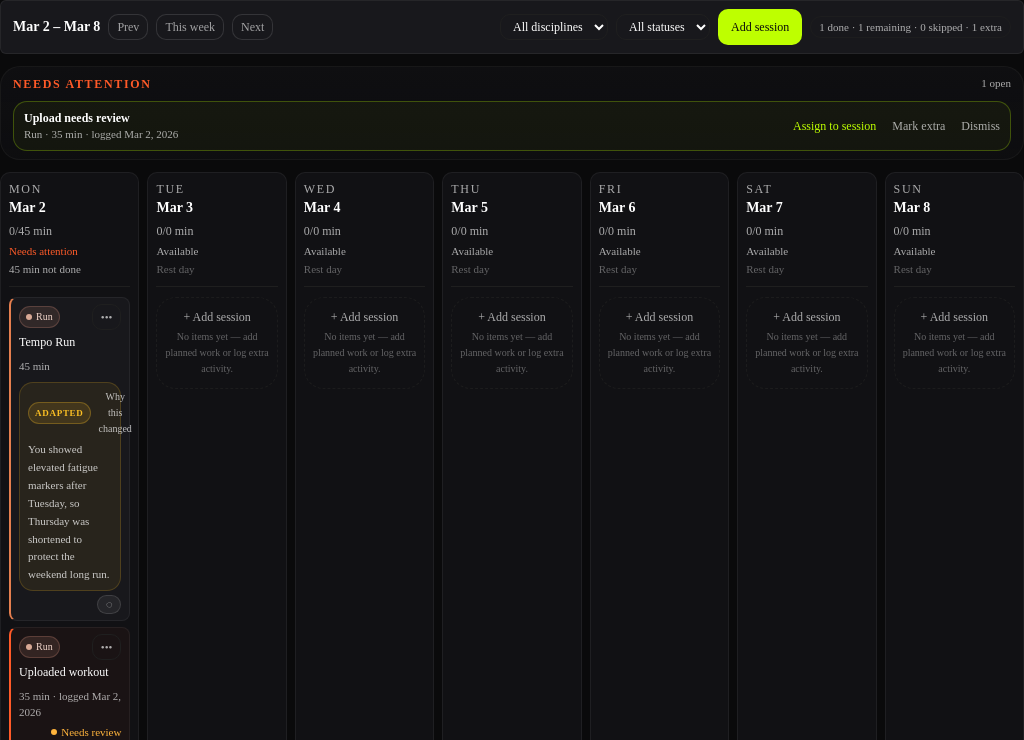
Test: WeekCalendar › renders adaptation rationale inline on affected planned session cards
This screenshot has width=1024, height=740.
Expected: the text "Adapted" is shown, [28, 402, 90, 424]
Expected: the text "elevated fatigue markers" is shown, [28, 443, 110, 580]
Click the button "Why this changed".
click(115, 413)  # box [98, 389, 132, 437]
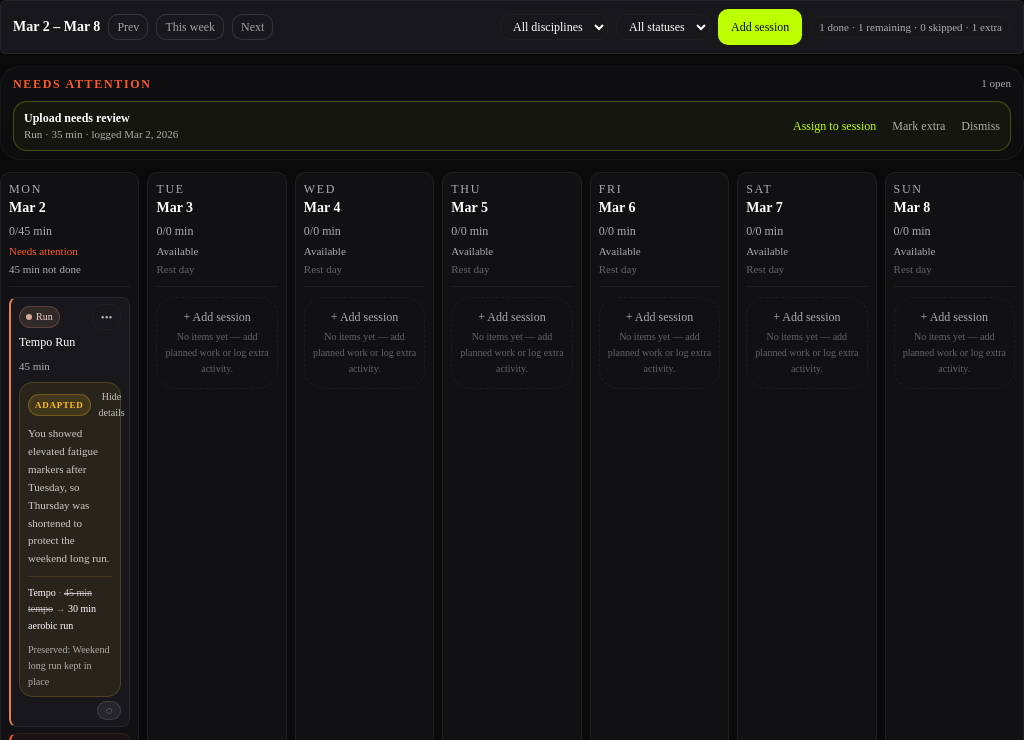
Now the text "Tempo" shows "Weekend long run kept in place", box [28, 644, 110, 687]
Now the text "Tempo" shows "45 min tempo", box [28, 587, 92, 614]
Now the text "Tempo" shows "30 min aerobic run", box [28, 603, 96, 631]
